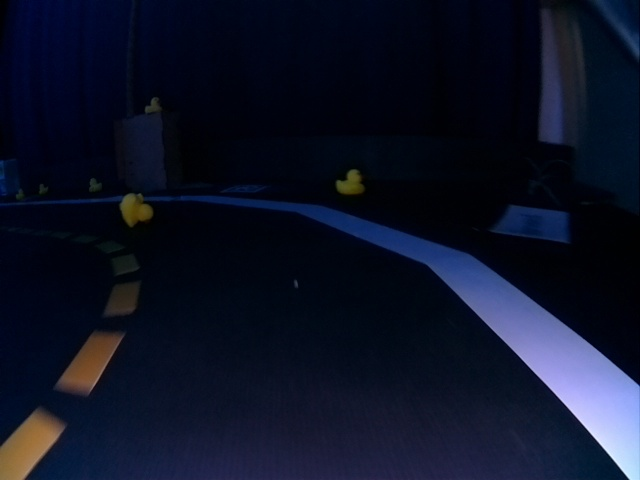Duckie: (119, 193, 153, 227), (336, 169, 364, 195), (88, 178, 101, 191), (145, 97, 155, 112), (16, 189, 25, 198), (39, 184, 47, 194)
QR code: (225, 184, 267, 193)
